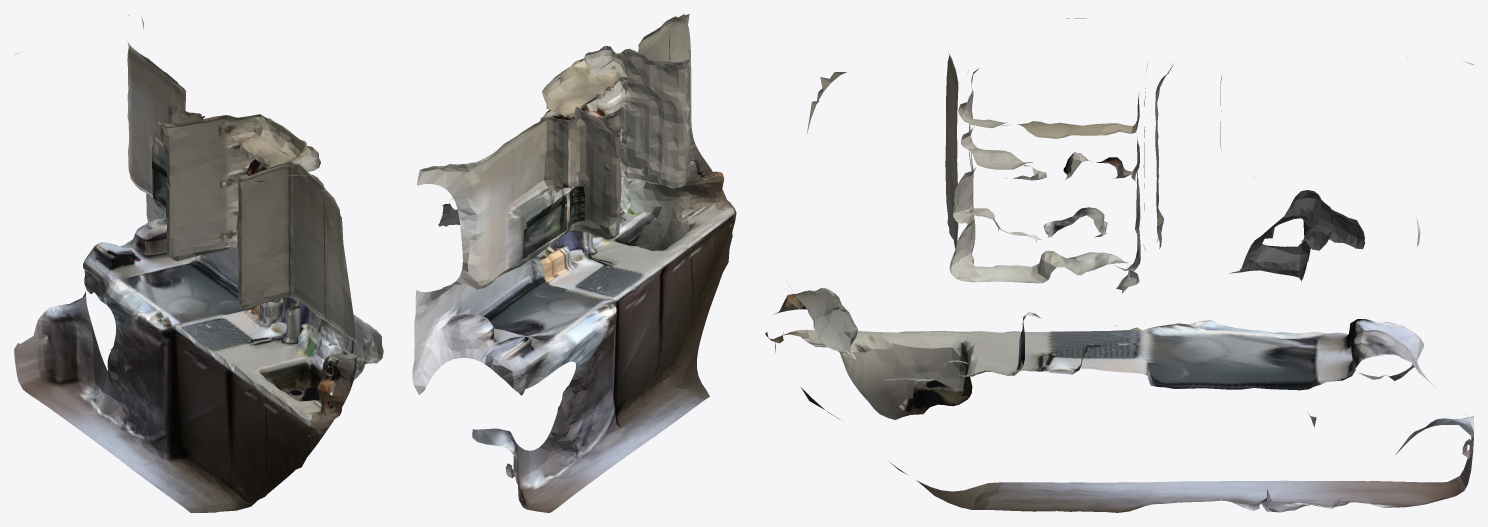
Rendered from cabinet_6.glb.
3 renders of one model, left to right at view 1: azimuth 30°, elevation 25°; view 2: azimuth 150°, elevation 25°; view 3: azimuth 270°, elevation 25°, orthographic. The views are drawn at different scales.
Bounding box in the file's own units: 1.06 × 2.37 × 3.18.
1 material, 1 textured.
